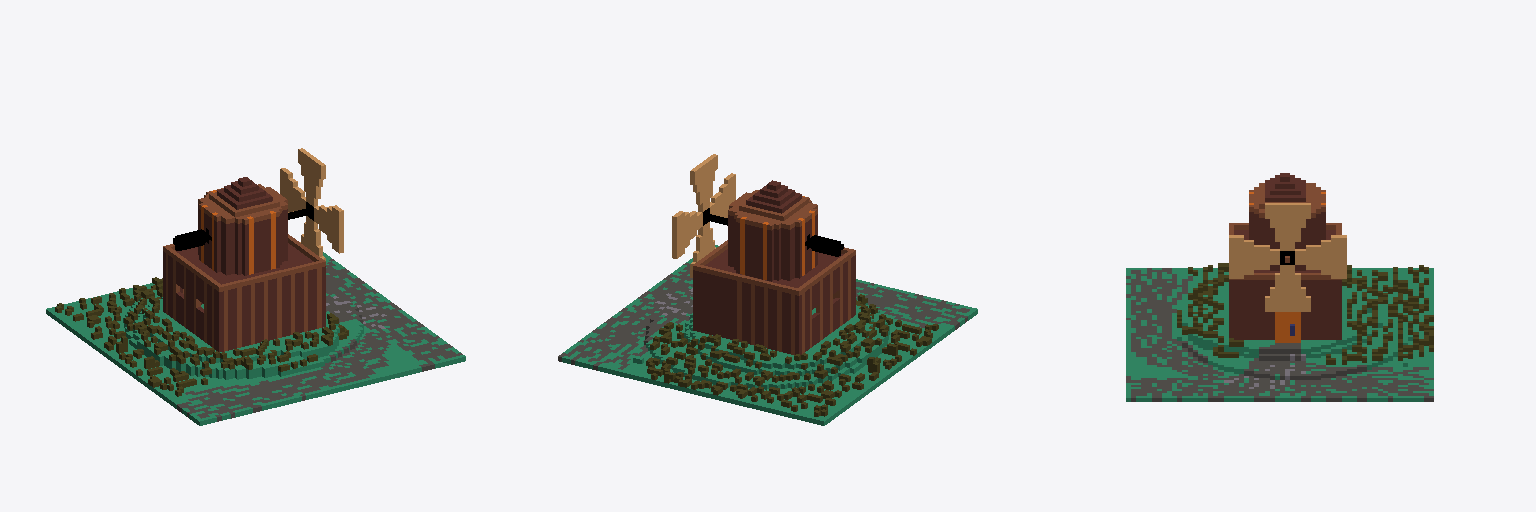
The picture shows the model from 3 angles: view 1: azimuth 30°, elevation 25°; view 2: azimuth 150°, elevation 25°; view 3: azimuth 270°, elevation 25°; orthographic projection.
Parts seen in each view (by area): view 1: object 1; view 2: object 1; view 3: object 1.
Part boxes in pixels (x1,y1,x2,y2): object 1: (46, 148, 465, 425); object 1: (558, 154, 977, 425); object 1: (1126, 173, 1433, 401).
Size of the model in its own units: 6 by 3.5 by 6.
1 materials, 1 textured.